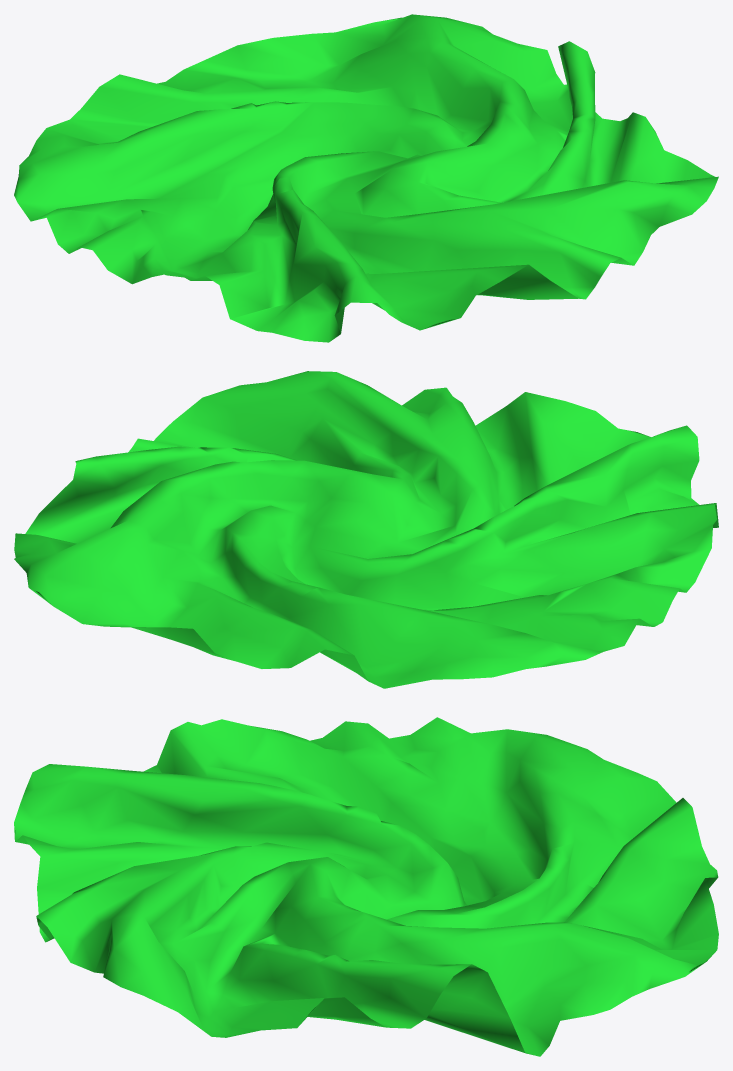
File: drycloth.fbx
The picture shows the model from 3 angles, top to bottom: view 1: azimuth 30°, elevation 25°; view 2: azimuth 150°, elevation 25°; view 3: azimuth 270°, elevation 25°; orthographic projection. The views are drawn at different scales.
Parts seen in each view (by area): view 1: Plane; view 2: Plane; view 3: Plane.
Part boxes in pixels (left/top/right/bottom): Plane: left=14, top=14, right=718, bottom=342; Plane: left=14, top=371, right=718, bottom=688; Plane: left=14, top=717, right=718, bottom=1056.
Bounding box in the file's own units: 293 × 43.5 × 291.
